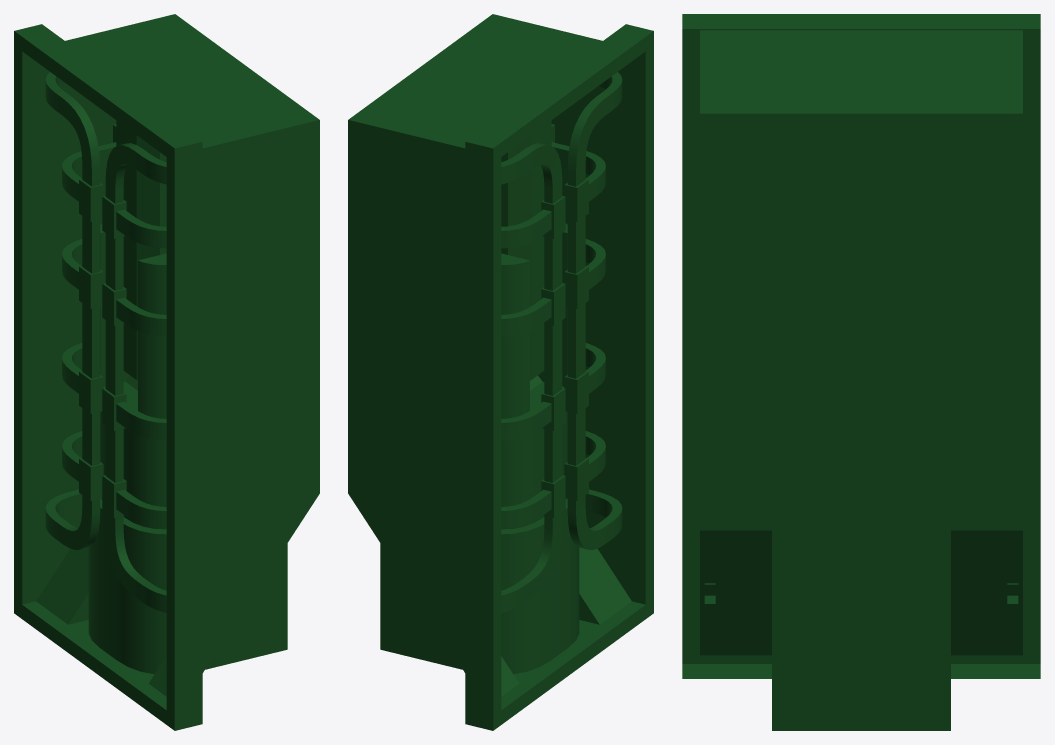
File: Wall_B_4x2m_D.FBX
3 views of the same model, side by side, from view 1: azimuth 30°, elevation 25°; view 2: azimuth 150°, elevation 25°; view 3: azimuth 270°, elevation 25° (orthographic). The views are drawn at different scales.
Visible parts, largest first — view 1: Wall_B_4x2m_D; view 2: Wall_B_4x2m_D; view 3: Wall_B_4x2m_D.
Boxes of the visible parts, bbox=[...] form: Wall_B_4x2m_D: bbox=[14, 14, 319, 730]; Wall_B_4x2m_D: bbox=[348, 14, 653, 730]; Wall_B_4x2m_D: bbox=[682, 14, 1040, 730].
Bounding box in the file's own units: 110 × 400 × 200.
